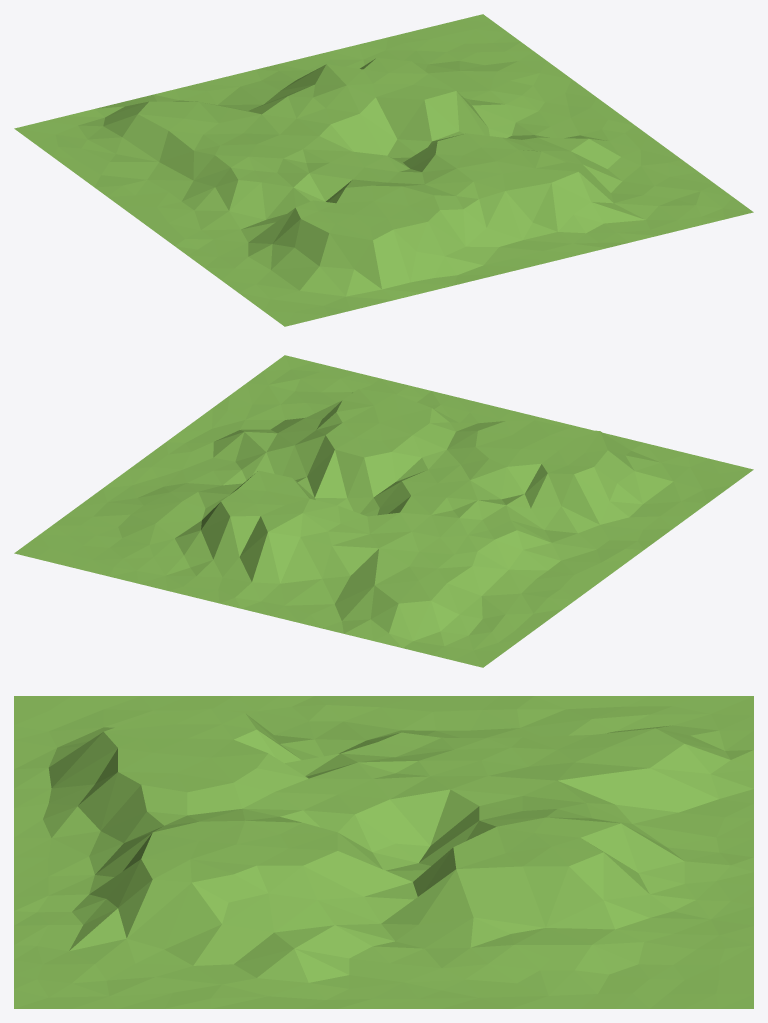
File: MT_Terrain_M_c_15.fbx
3 renders of one model, top to bottom at view 1: azimuth 30°, elevation 25°; view 2: azimuth 150°, elevation 25°; view 3: azimuth 270°, elevation 25°, orthographic. The views are drawn at different scales.
Parts seen in each view (by area): view 1: MT_Terrain_M_c_15; view 2: MT_Terrain_M_c_15; view 3: MT_Terrain_M_c_15.
Boxes of the visible parts, x1=… form: MT_Terrain_M_c_15: x1=14, y1=14, x2=753, y2=326; MT_Terrain_M_c_15: x1=14, y1=355, x2=753, y2=667; MT_Terrain_M_c_15: x1=14, y1=696, x2=753, y2=1008.
Bounding box in the file's own units: 5000 × 380 × 5000.
